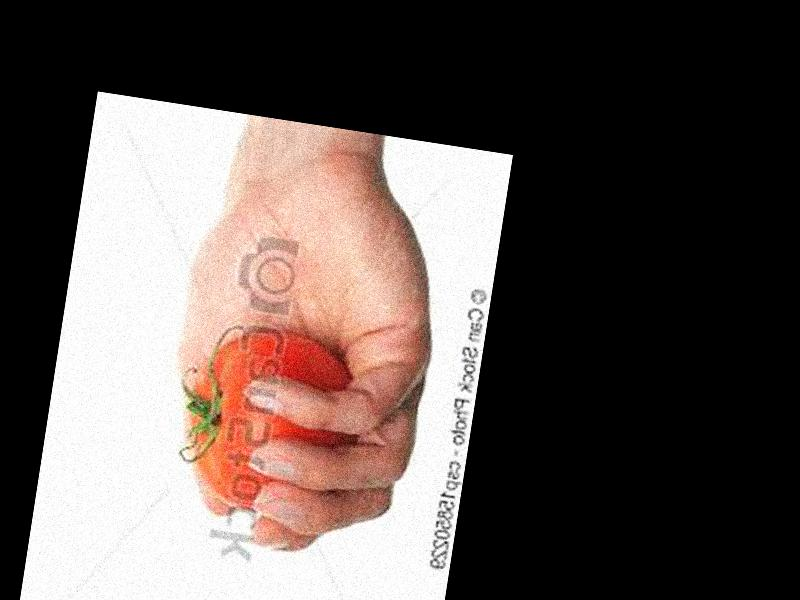Tomato: (177, 324, 364, 523)
